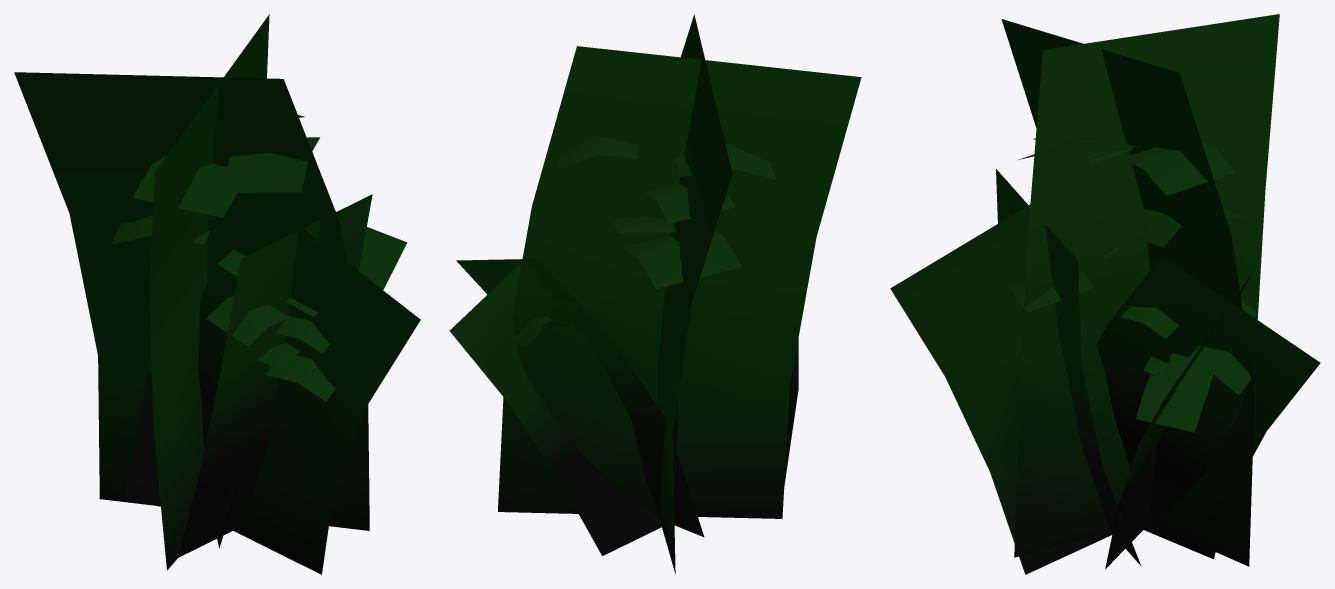
The model's file is FlowersB_afsTREE_xlp.fbx.
3 renders of one model, left to right at view 1: azimuth 30°, elevation 25°; view 2: azimuth 150°, elevation 25°; view 3: azimuth 270°, elevation 25°, orthographic. The views are drawn at different scales.
Visible parts, largest first — view 1: FlowersB_Leaf_xt02_xw05; view 2: FlowersB_Leaf_xt02_xw05; view 3: FlowersB_Leaf_xt02_xw05.
Part boxes in pixels (x1,y1,x2,y2): FlowersB_Leaf_xt02_xw05: (14,14,420,574); FlowersB_Leaf_xt02_xw05: (449,14,861,574); FlowersB_Leaf_xt02_xw05: (890,14,1320,574).
Bounding box in the file's own units: 0.4311 × 0.6118 × 0.4649.
